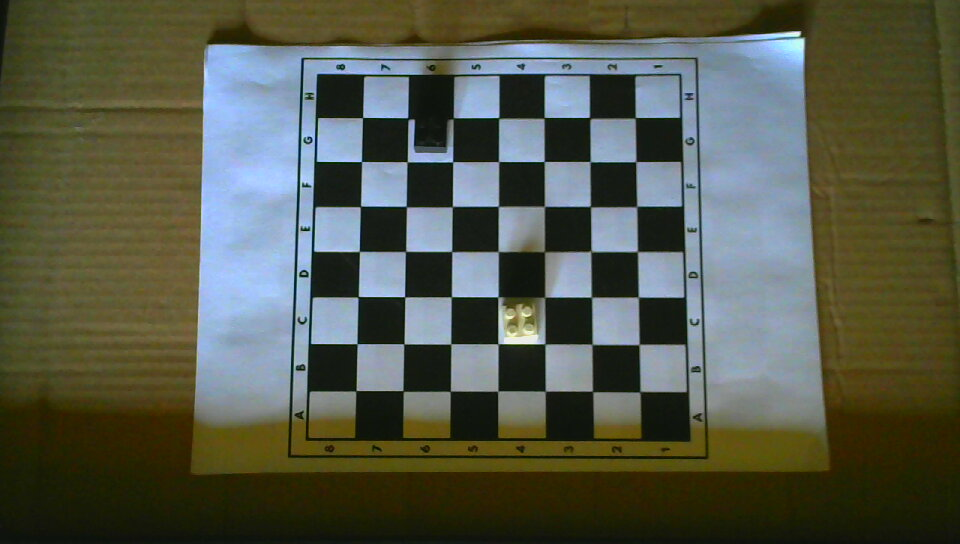bp: (412, 114, 448, 153)
wp: (500, 301, 539, 342)
